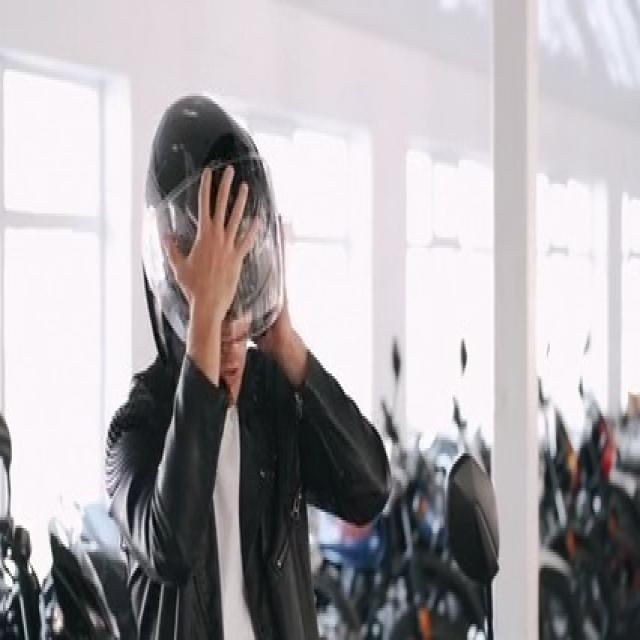Helmet_Wearer: (130, 90, 298, 384)
Jacket_Wearer: (100, 325, 388, 640)
Person: (101, 89, 378, 640)
